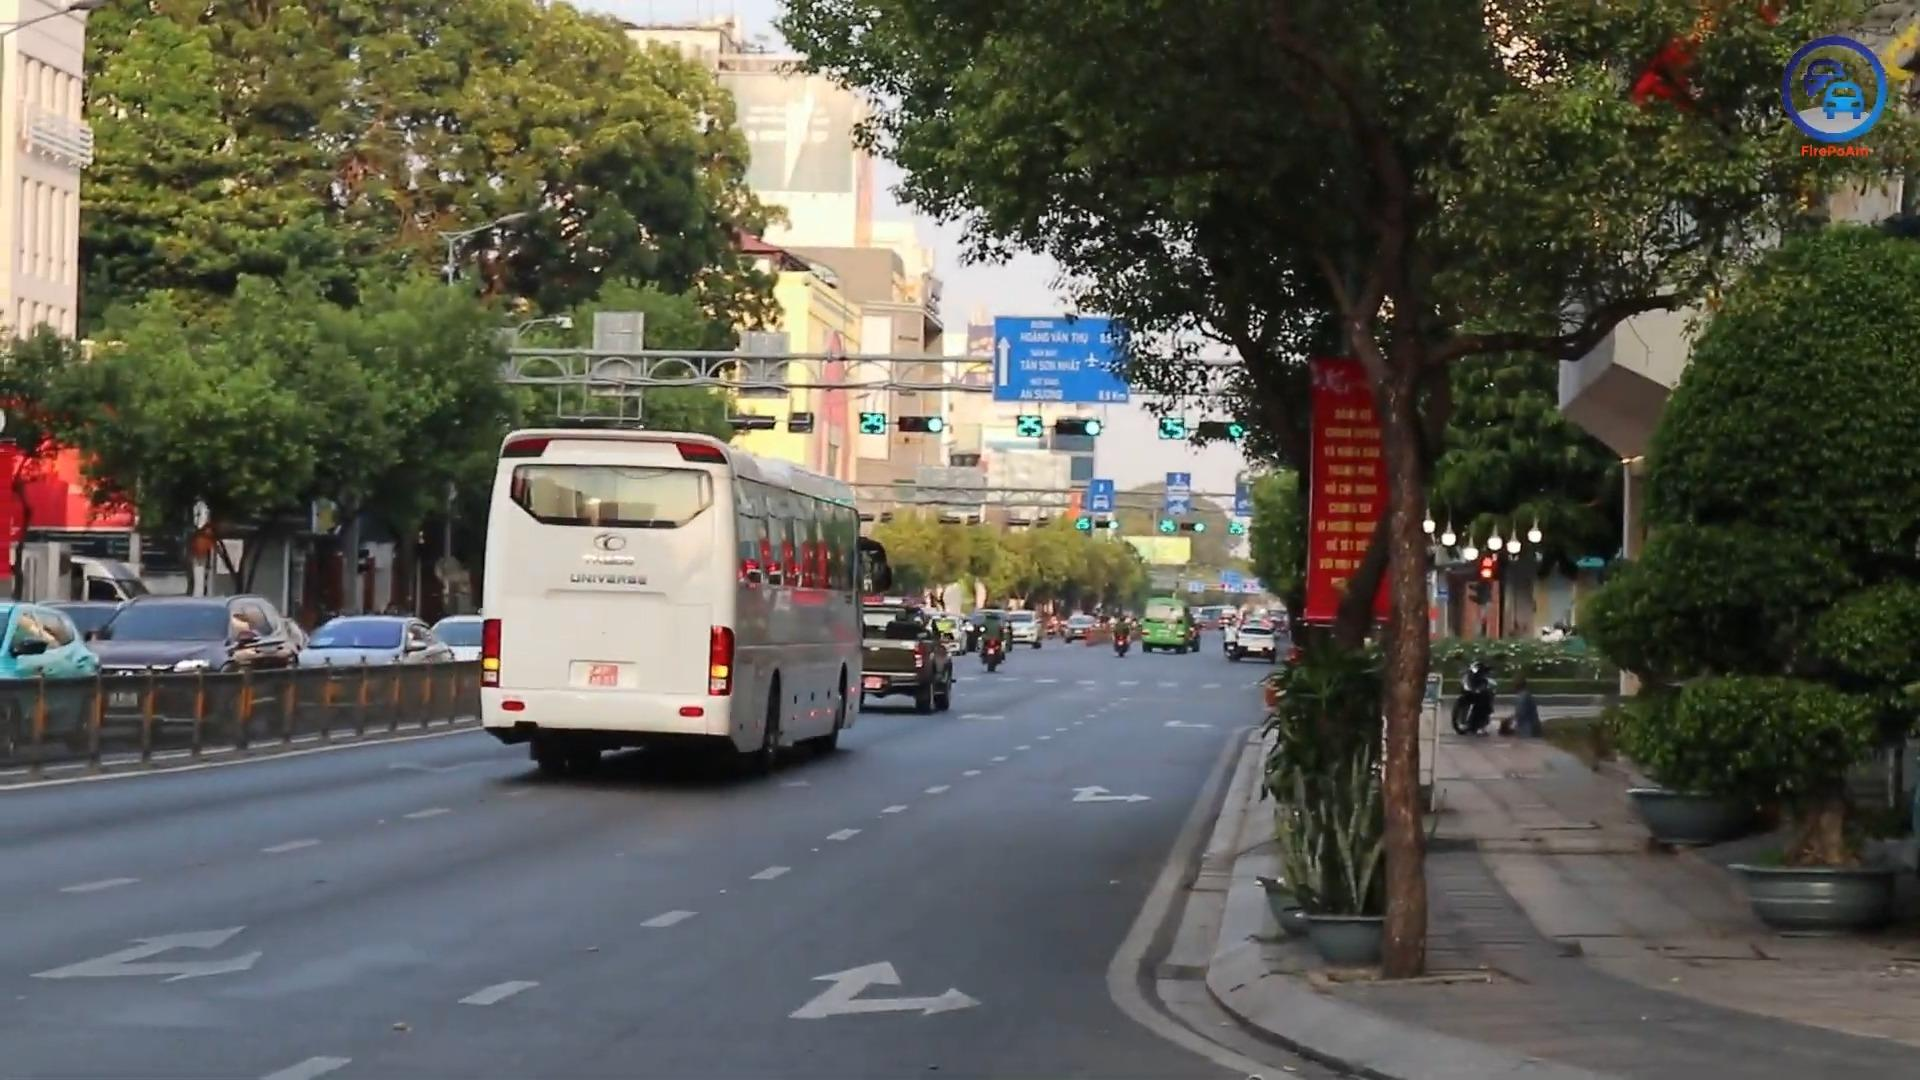bien_so: (586, 663, 620, 688)
